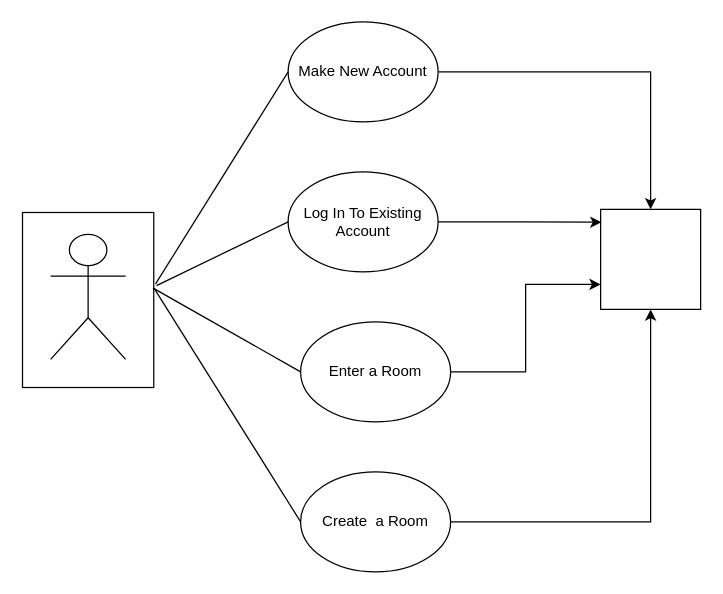
Image size: 723x594. Some labels were removed from this diagram. Each missing label, with the centre of its shape:
End - User: point 87,296
Smile Chat Database: point 650,258
